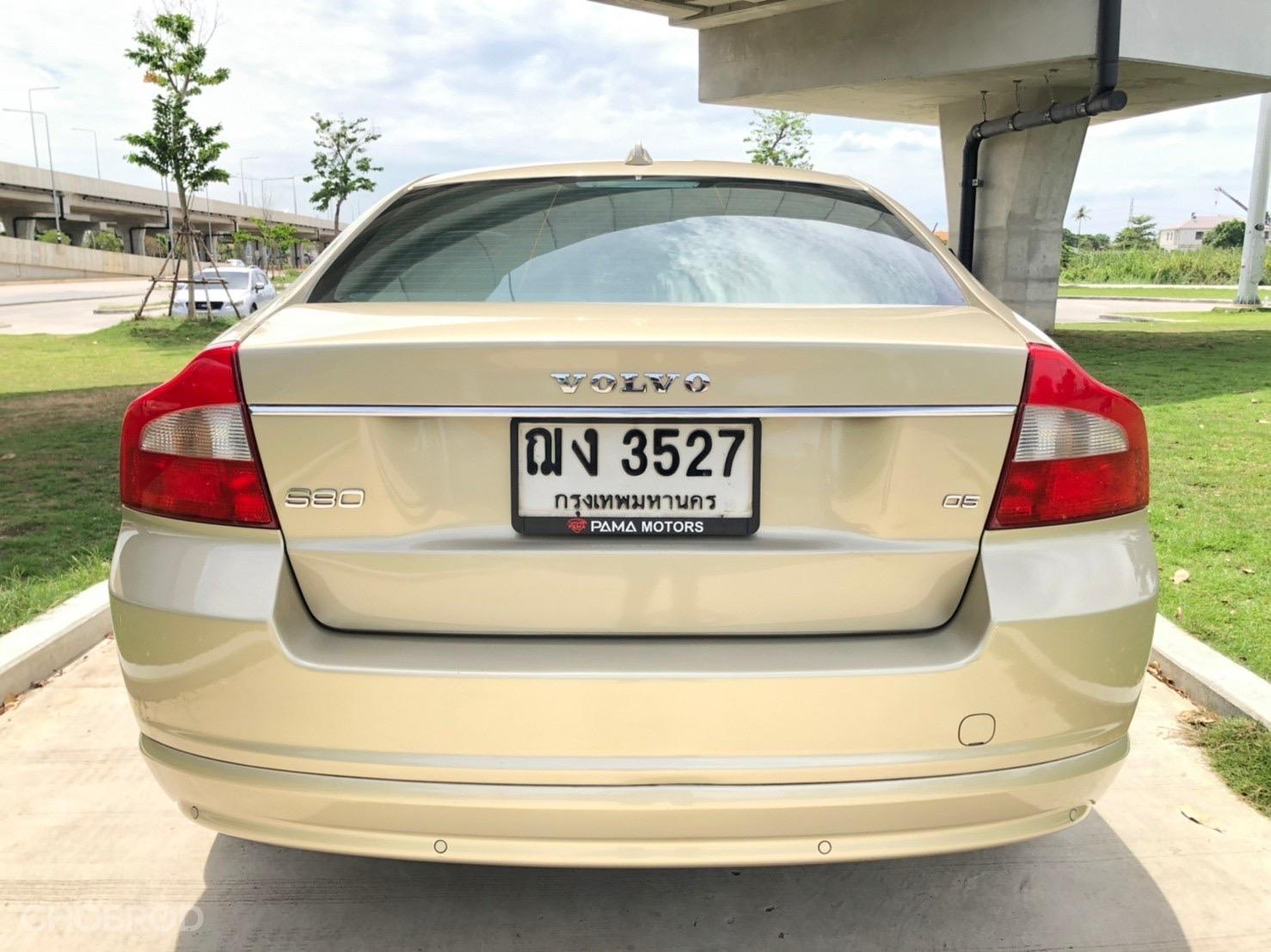license-plate: (509, 408, 761, 538)
